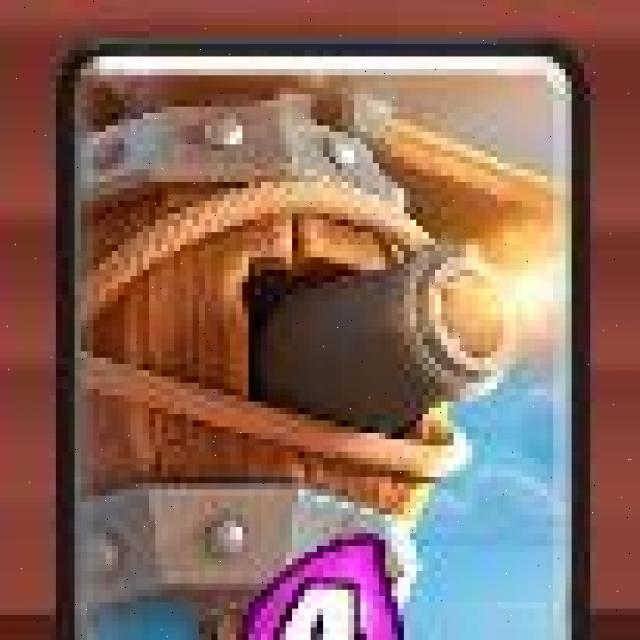Flying_Machine: (51, 44, 588, 640)
